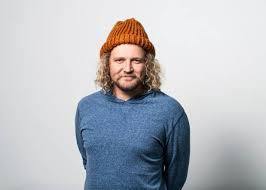cap: (99, 17, 162, 58)
